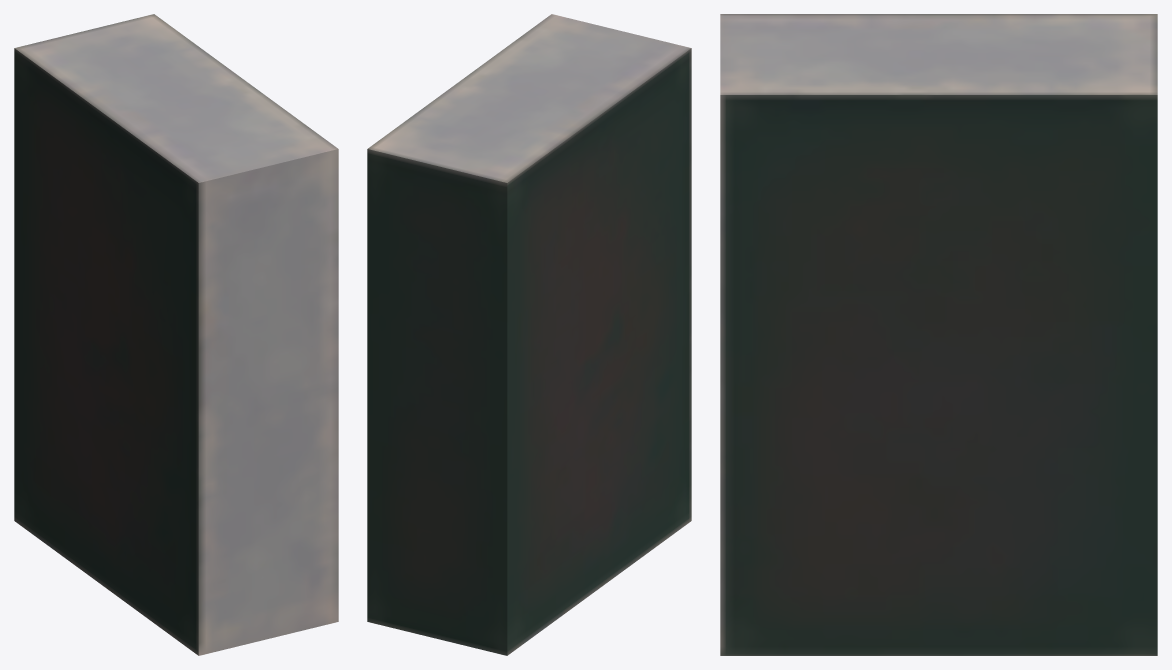
The model's file is Pfb_Indoors_Books__20.fbx.
3 views of the same model, side by side, from view 1: azimuth 30°, elevation 25°; view 2: azimuth 150°, elevation 25°; view 3: azimuth 270°, elevation 25° (orthographic). The views are drawn at different scales.
Parts seen in each view (by area): view 1: Mat_Indoors_Books_01_3; view 2: Mat_Indoors_Books_01_3; view 3: Mat_Indoors_Books_01_3.
Part boxes in pixels (bbox=[...]): Mat_Indoors_Books_01_3: bbox=[14, 14, 338, 655]; Mat_Indoors_Books_01_3: bbox=[367, 14, 691, 655]; Mat_Indoors_Books_01_3: bbox=[720, 14, 1157, 655].
Size of the model in its own units: 0.1421 by 0.4591 by 0.3245.
Materials: 1 (1 with a texture image).
